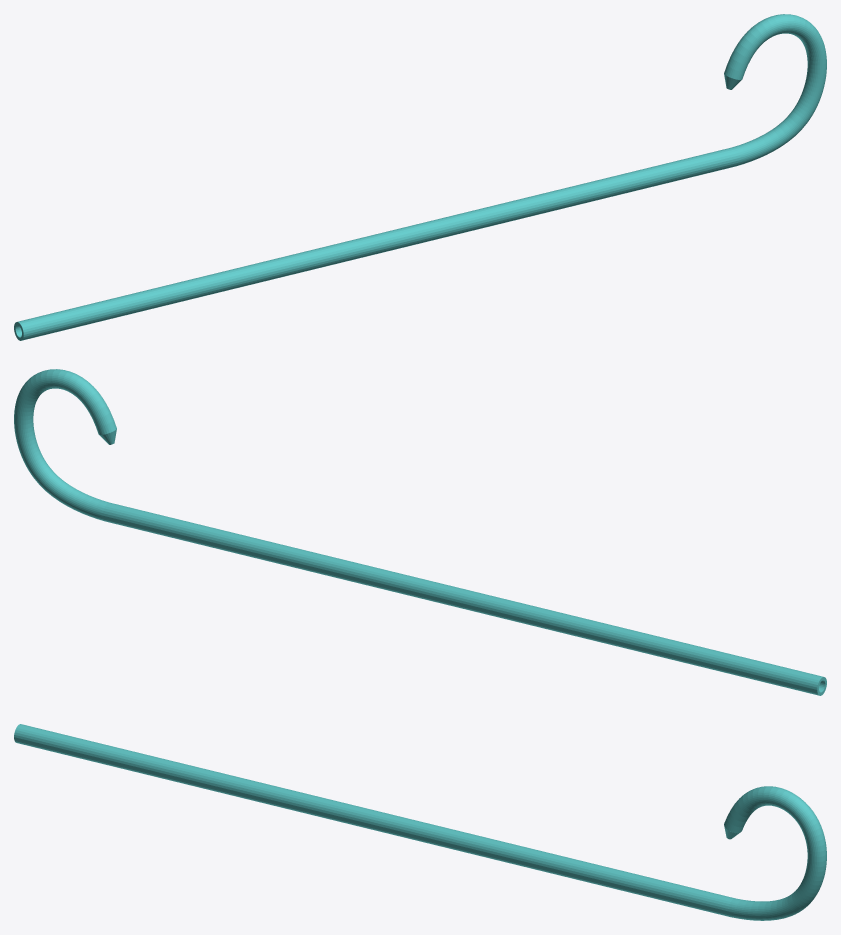
File: 3.2.1.5 Catheter.glb
3 views of the same model, one above another, from view 1: azimuth 30°, elevation 25°; view 2: azimuth 150°, elevation 25°; view 3: azimuth 330°, elevation 25° (orthographic).
Parts seen in each view (by area): view 1: empty_2; view 2: empty_2; view 3: empty_2.
Part boxes in pixels (left/top/right/bottom): empty_2: left=14, top=14, right=826, bottom=340; empty_2: left=14, top=369, right=826, bottom=695; empty_2: left=14, top=724, right=826, bottom=920.
Size of the model in its own units: 209 by 34.45 by 4.36.
